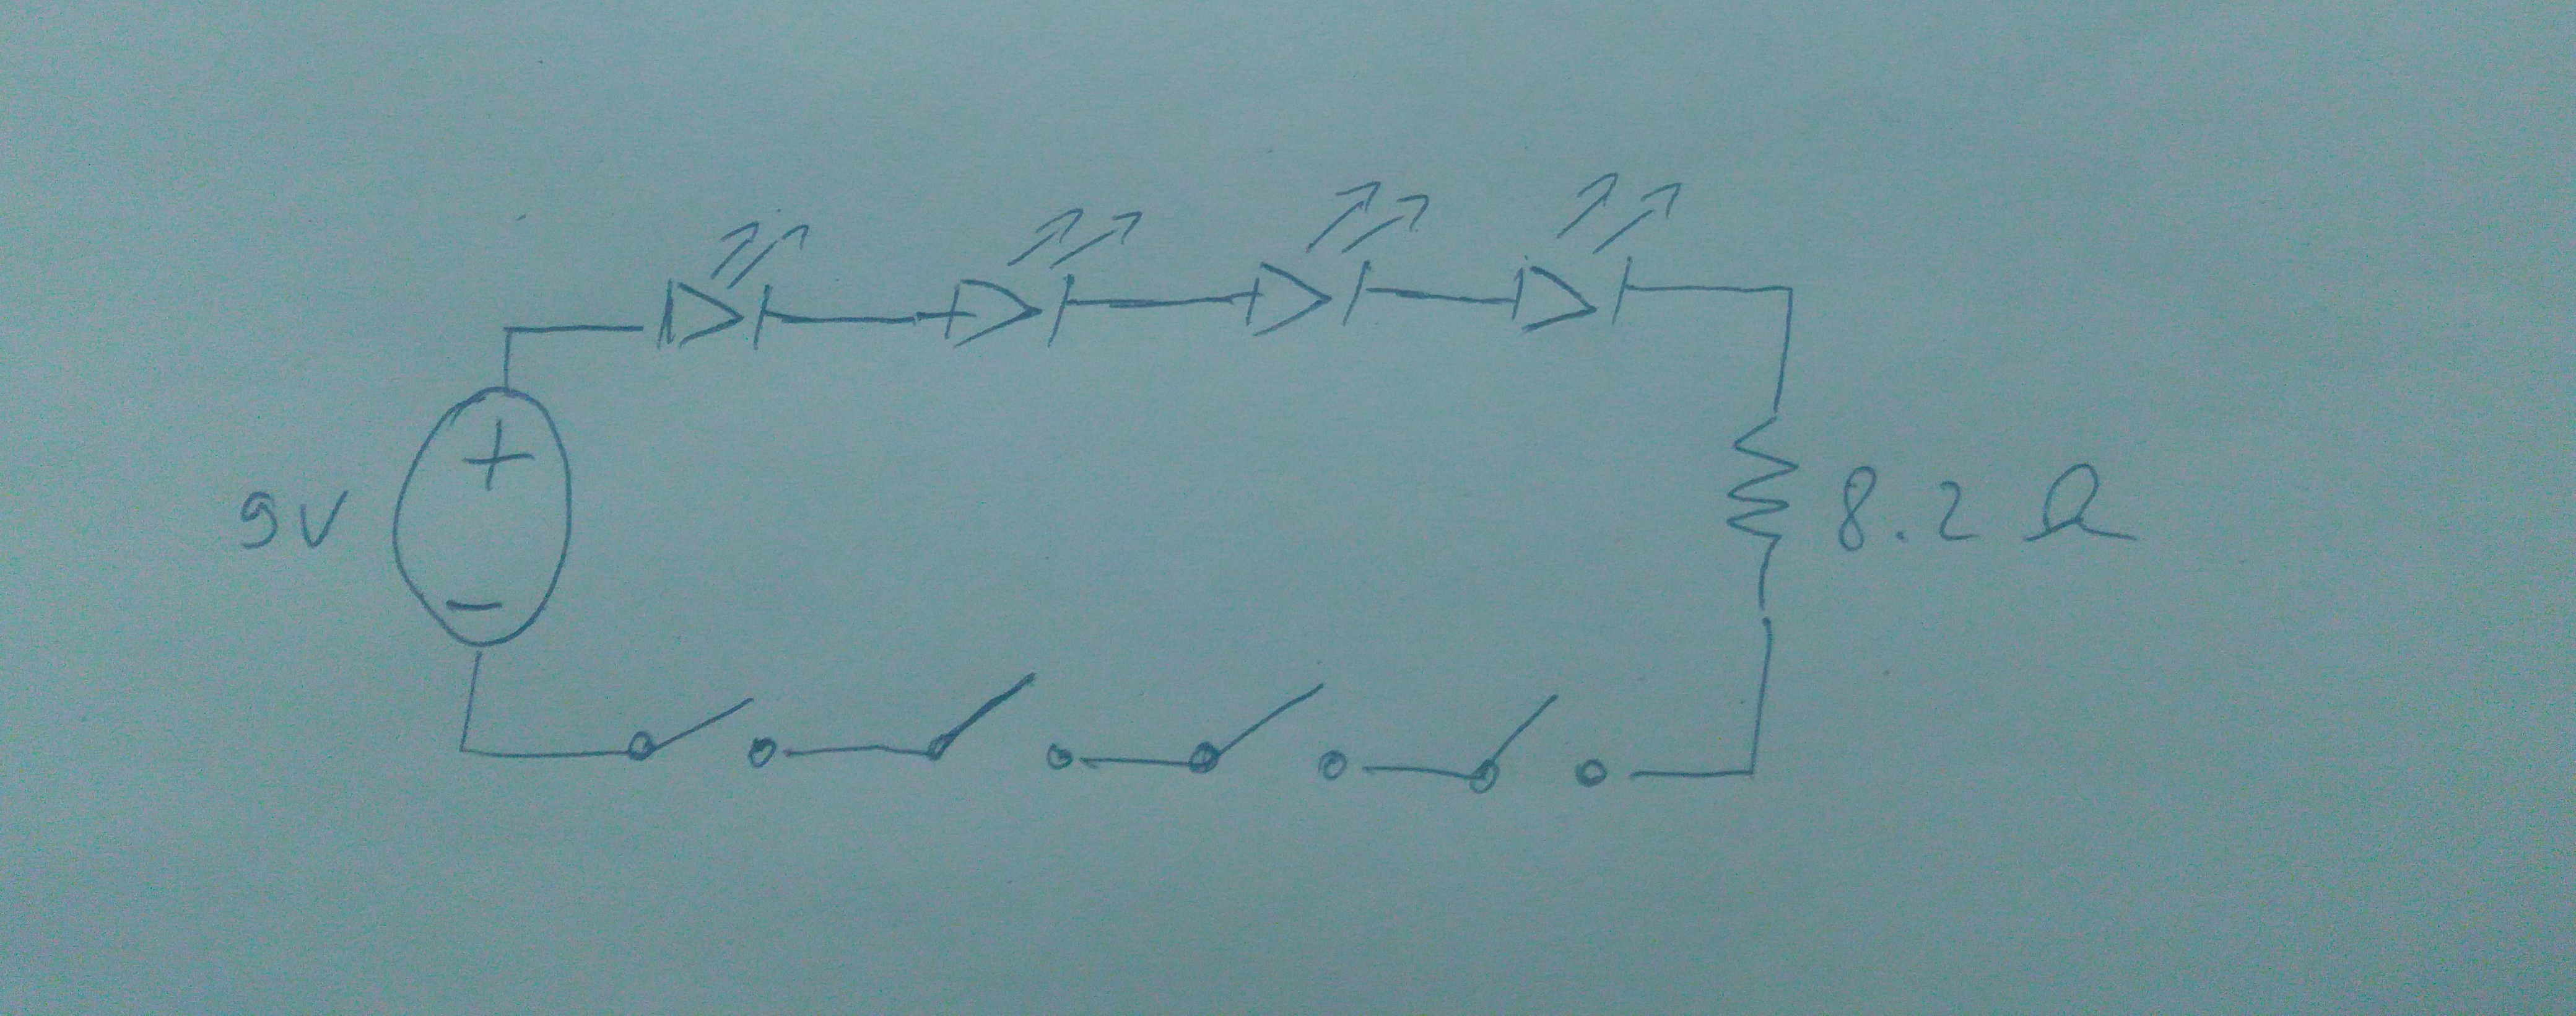diode.light_emitting: (1465, 158, 1710, 353), (913, 194, 1158, 368), (1226, 174, 1442, 357), (629, 207, 821, 385)
junction: (434, 720, 493, 773), (480, 312, 539, 352), (1720, 755, 1774, 792), (1763, 278, 1810, 319)
resistor: (1710, 390, 1814, 610)
switch: (897, 661, 1097, 787), (1170, 669, 1370, 794), (1439, 677, 1636, 801), (611, 672, 795, 784)
text: (1822, 450, 2157, 566), (214, 467, 363, 566)
voltage.dc: (376, 375, 596, 663)
